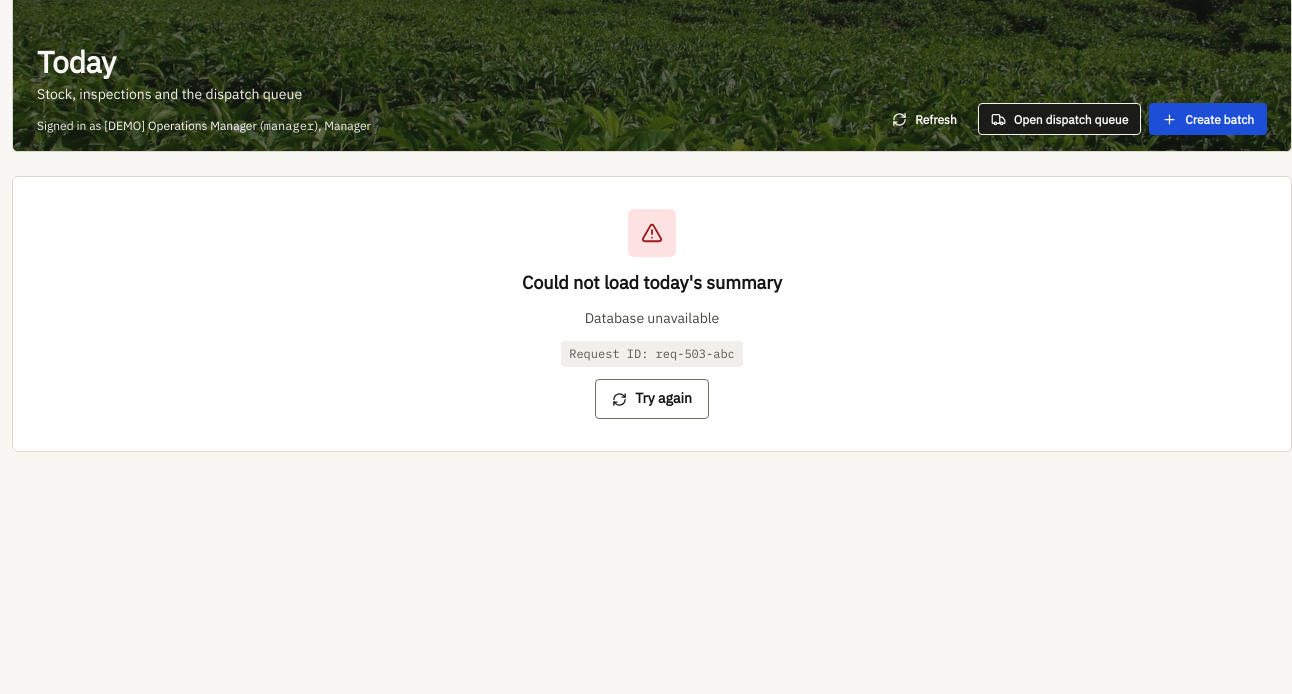
Test: DashboardPage (Phase 6 Part D) › renders error state with requestId and retries on click
The width and height of the screenshot is (1292, 694).
expect the heading "Could not load today's summary" is shown: met, box [522, 269, 782, 296]
expect the text "Request ID: req-503-abc" is shown: met, box [561, 341, 743, 367]
Click the button "Try again" at coordinates (652, 399), box [595, 379, 709, 419]
(page scrolled)
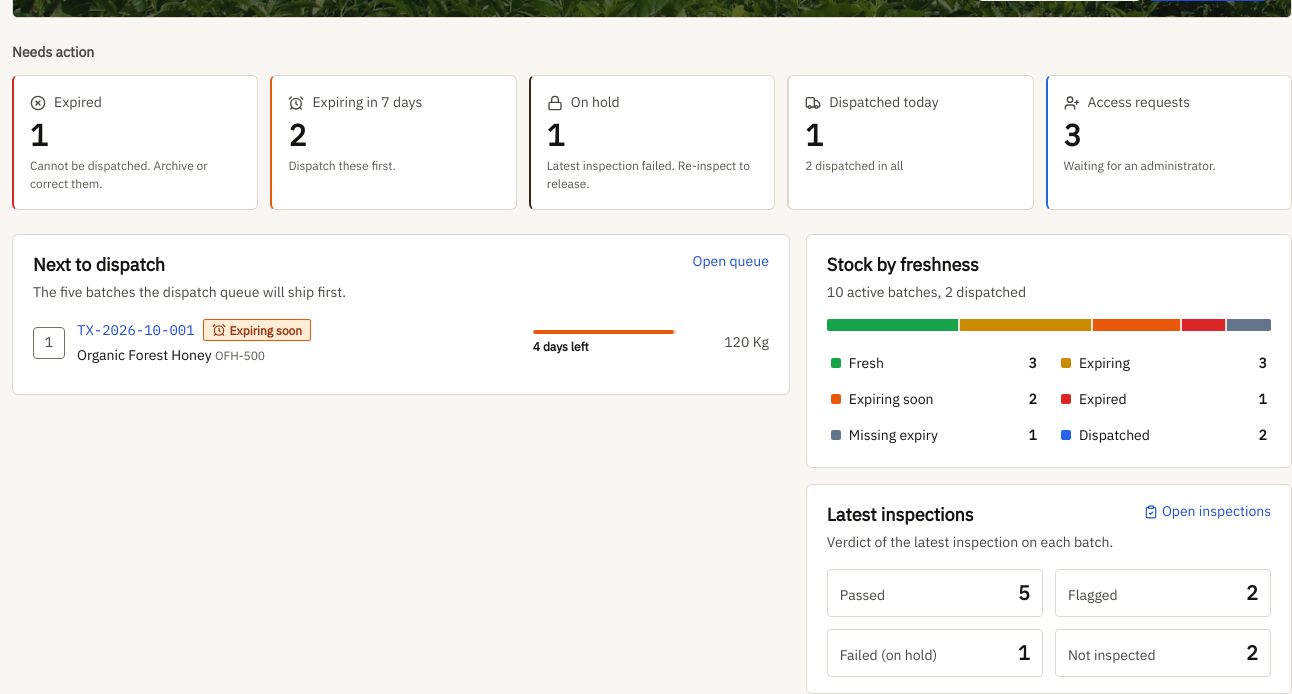
expect the element with test id "dashboard-summary-ready" is shown: met
